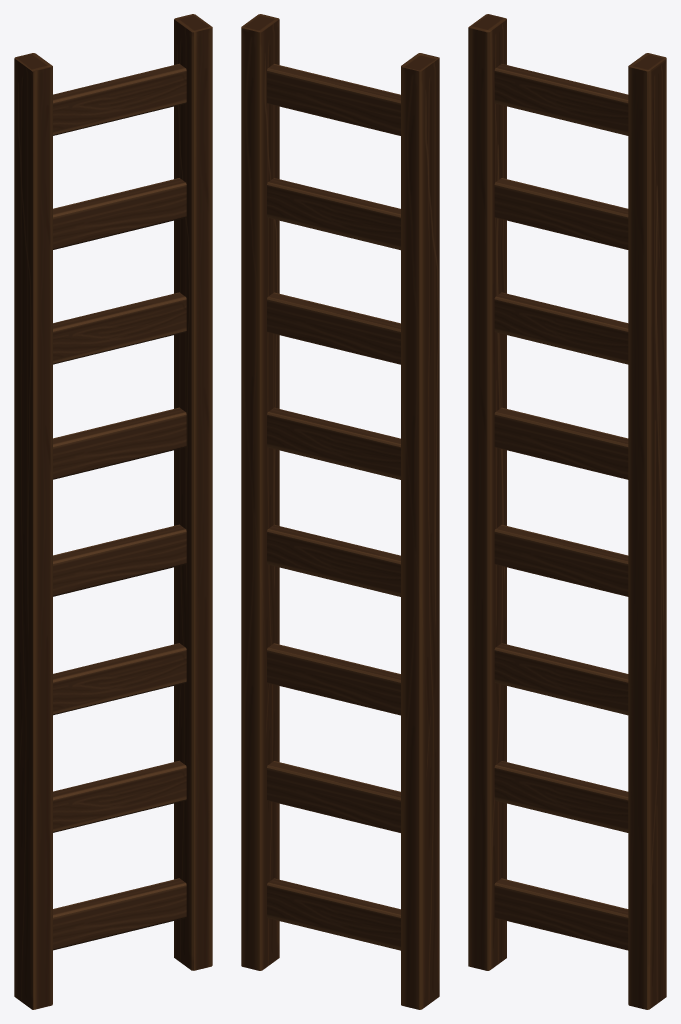
The model's file is Ladder_Long.fbx.
3 renders of one model, left to right at view 1: azimuth 30°, elevation 25°; view 2: azimuth 150°, elevation 25°; view 3: azimuth 330°, elevation 25°, orthographic.
Parts seen in each view (by area): view 1: pCube16, pCube1, pCube11, pCube2, pCube3, pCube5, pCube7, pCube15, pCube9, pCube13; view 2: pCube16, pCube1, pCube5, pCube3, pCube11, pCube15, pCube7, pCube9, pCube13, pCube2; view 3: pCube1, pCube16, pCube7, pCube5, pCube15, pCube9, pCube11, pCube3, pCube2, pCube13.
Boxes of the visible parts, <box> form: pCube16: <box>14,53,52,1009</box>; pCube1: <box>174,14,212,970</box>; pCube11: <box>53,643,186,715</box>; pCube2: <box>53,63,186,135</box>; pCube3: <box>53,178,186,249</box>; pCube5: <box>53,292,186,364</box>; pCube7: <box>53,407,186,479</box>; pCube15: <box>53,878,186,950</box>; pCube9: <box>53,524,186,596</box>; pCube13: <box>53,760,186,832</box>; pCube16: <box>401,53,439,1009</box>; pCube1: <box>241,14,279,970</box>; pCube5: <box>267,292,400,364</box>; pCube3: <box>267,178,400,250</box>; pCube11: <box>267,643,400,715</box>; pCube15: <box>267,878,400,950</box>; pCube7: <box>267,407,400,479</box>; pCube9: <box>267,524,400,596</box>; pCube13: <box>267,761,400,832</box>; pCube2: <box>267,64,400,135</box>; pCube1: <box>628,53,666,1009</box>; pCube16: <box>468,14,506,970</box>; pCube7: <box>494,407,628,479</box>; pCube5: <box>494,292,628,364</box>; pCube15: <box>494,878,628,950</box>; pCube9: <box>494,525,628,596</box>; pCube11: <box>494,643,628,715</box>; pCube3: <box>494,178,628,249</box>; pCube2: <box>494,64,628,135</box>; pCube13: <box>494,761,628,832</box>.
Bounding box in the file's own units: 515 × 2558 × 95.18.
